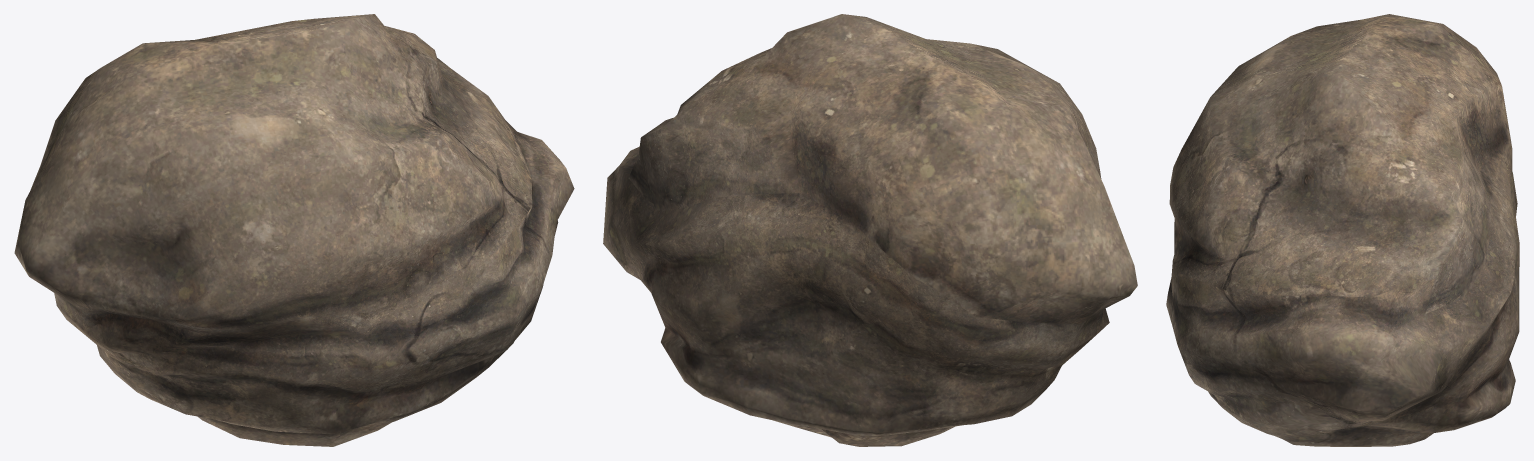
File: Stone in the hands.fbx
3 views of the same model, side by side, from view 1: azimuth 30°, elevation 25°; view 2: azimuth 150°, elevation 25°; view 3: azimuth 270°, elevation 25° (orthographic). The views are drawn at different scales.
Parts seen in each view (by area): view 1: w_rock_LOD1; view 2: w_rock_LOD1; view 3: w_rock_LOD1.
Boxes of the visible parts, <box> form: w_rock_LOD1: <box>14,14,574,446</box>; w_rock_LOD1: <box>603,14,1137,446</box>; w_rock_LOD1: <box>1166,14,1519,446</box>.
Bounding box in the file's own units: 23.71 × 17.19 × 14.75.
